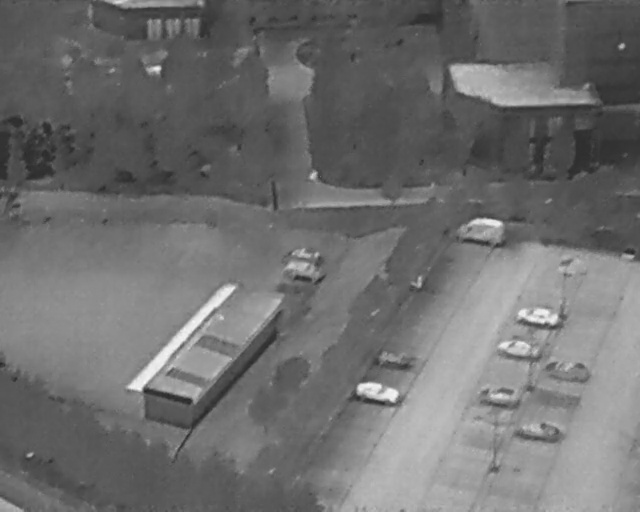Car: (453, 212, 509, 249), (279, 256, 328, 289), (544, 354, 592, 385), (513, 302, 562, 332), (353, 378, 402, 408), (496, 335, 543, 362), (479, 380, 519, 411), (518, 419, 564, 443), (287, 242, 325, 269)
